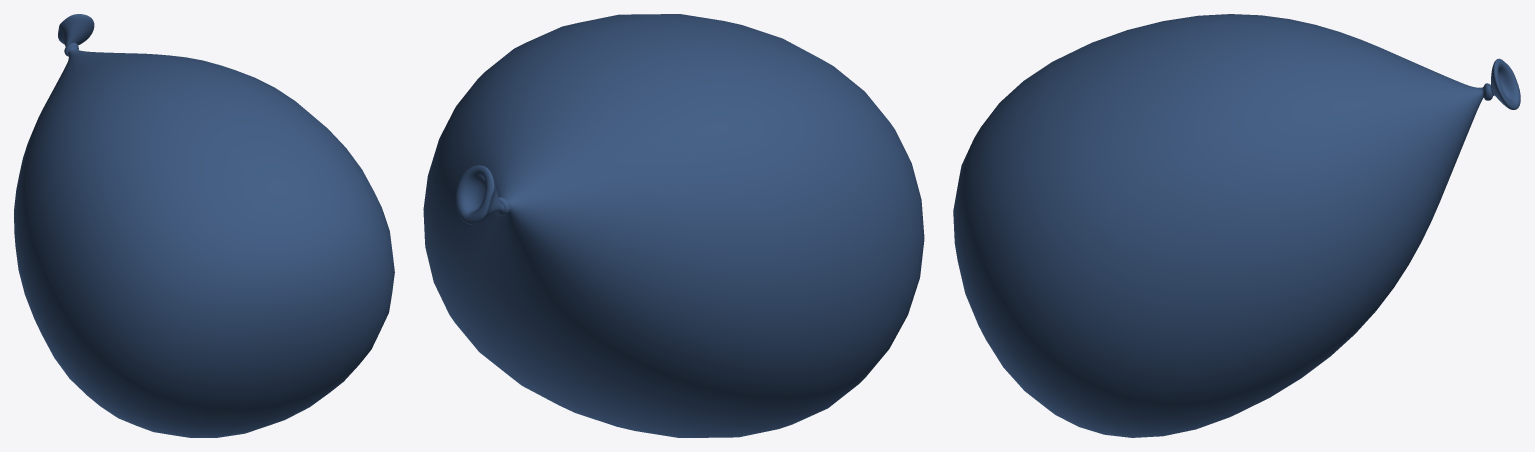
File: globo_azulDardos.obj
3 views of the same model, side by side, from view 1: azimuth 30°, elevation 25°; view 2: azimuth 150°, elevation 25°; view 3: azimuth 270°, elevation 25° (orthographic). The views are drawn at different scales.
Parts seen in each view (by area): view 1: Balloon_002; view 2: Balloon_002; view 3: Balloon_002.
Boxes of the visible parts, x1,y1,x2,y2 form: Balloon_002: (14, 14, 394, 437); Balloon_002: (423, 14, 924, 437); Balloon_002: (953, 14, 1520, 437).
Bounding box in the file's own units: 5.7 × 5.34 × 7.34.
